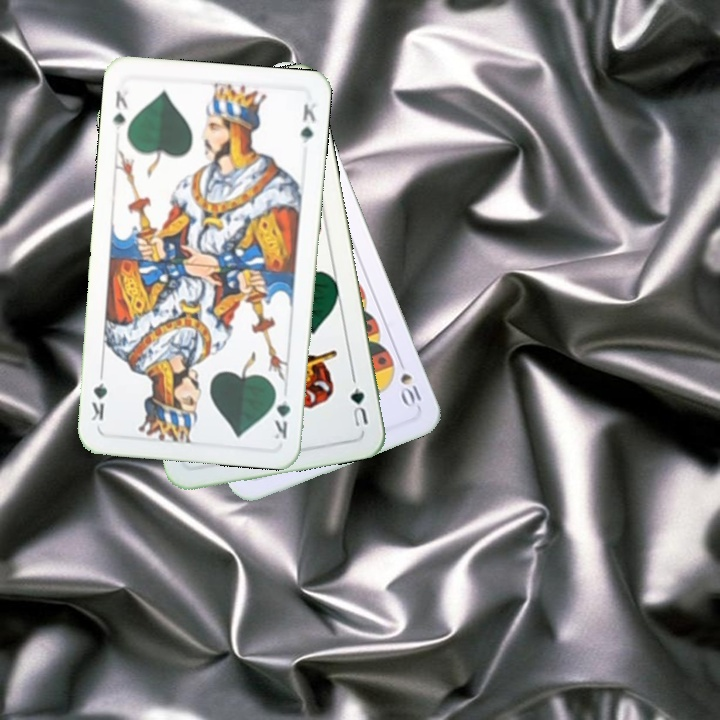GK: (270, 383, 293, 442), (109, 87, 130, 132)
GU: (346, 374, 371, 429)
S10: (396, 368, 424, 411)
